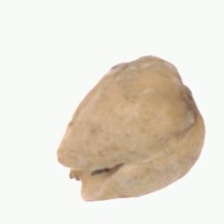L1: (172, 64, 205, 127), (56, 152, 94, 201)
L2: (55, 55, 205, 202)
